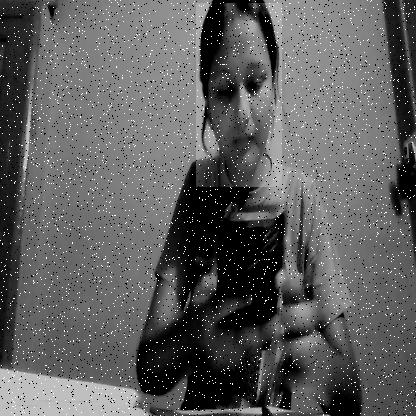Normal: (196, 3, 282, 187)
